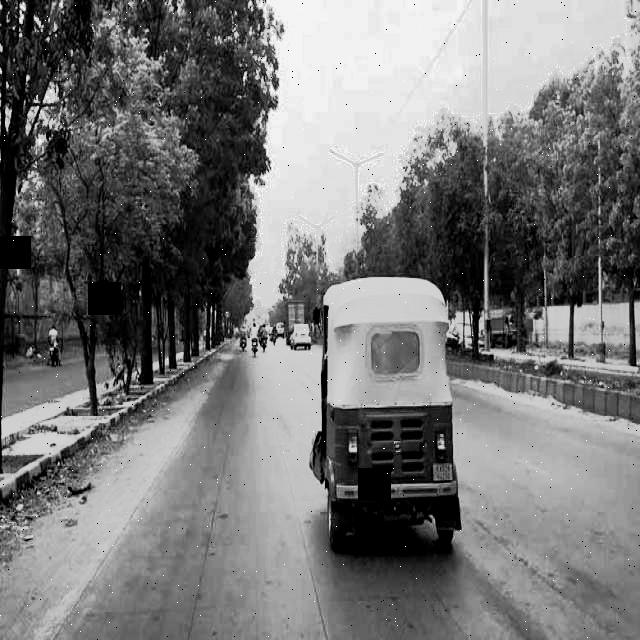Auto-Rickshaw: (310, 284, 472, 575)
